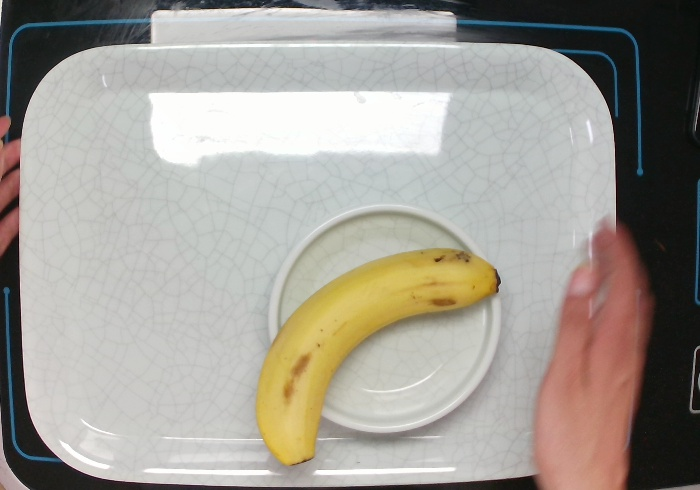JYsf-Xiao_Yuan_Pan: (266, 201, 503, 435)
